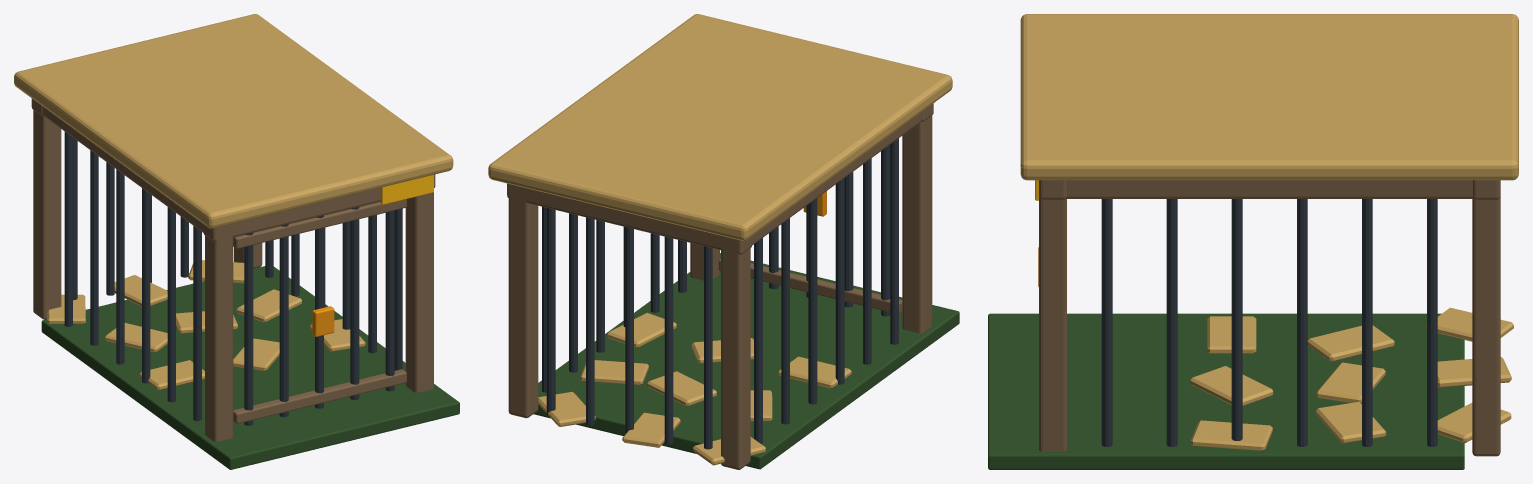
The model's file is MD_Zoo_LionCage.fbx.
The picture shows the model from 3 angles, left to right: view 1: azimuth 30°, elevation 25°; view 2: azimuth 150°, elevation 25°; view 3: azimuth 270°, elevation 25°; orthographic projection. The views are drawn at different scales.
Visible parts, largest first — view 1: MD_Zoo_LionCage, Door; view 2: MD_Zoo_LionCage, Door; view 3: MD_Zoo_LionCage.
Boxes of the visible parts, left/top/right/bottom form: MD_Zoo_LionCage: left=14, top=14, right=459, bottom=469; Door: left=233, top=199, right=406, bottom=425; MD_Zoo_LionCage: left=488, top=14, right=959, bottom=469; Door: left=718, top=145, right=902, bottom=316; MD_Zoo_LionCage: left=988, top=14, right=1518, bottom=469.
Size of the model in its own units: 330 by 318 by 490.
